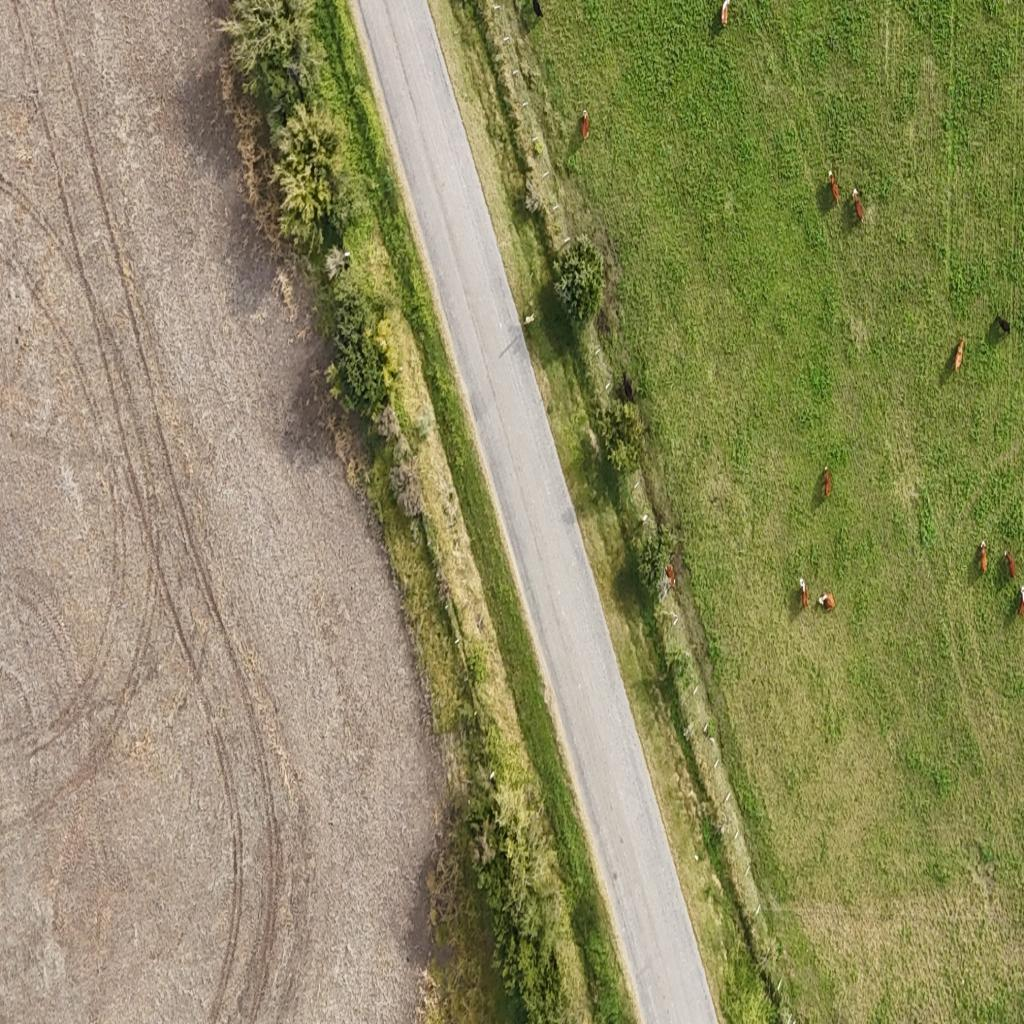cow: (656, 564, 673, 602), (853, 184, 864, 223), (954, 336, 965, 373), (978, 539, 989, 575), (828, 169, 839, 205), (994, 316, 1011, 339), (621, 370, 633, 402), (818, 592, 836, 612), (1006, 550, 1017, 582), (799, 577, 809, 611), (580, 107, 590, 140), (530, 0, 544, 22), (823, 467, 832, 499), (720, 0, 730, 27), (1018, 584, 1024, 620)
